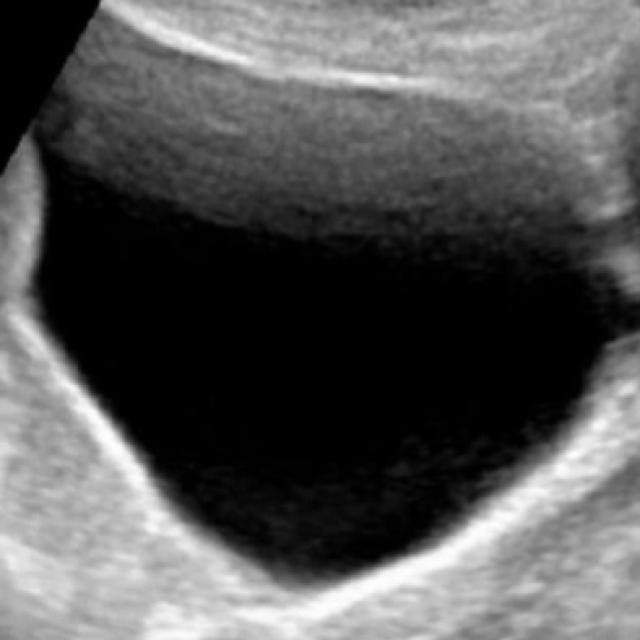bladder: (6, 0, 636, 619)
